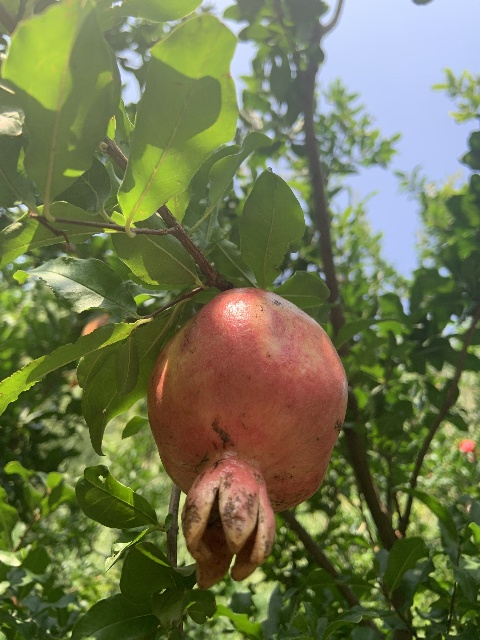ripe: (146, 289, 347, 590)
